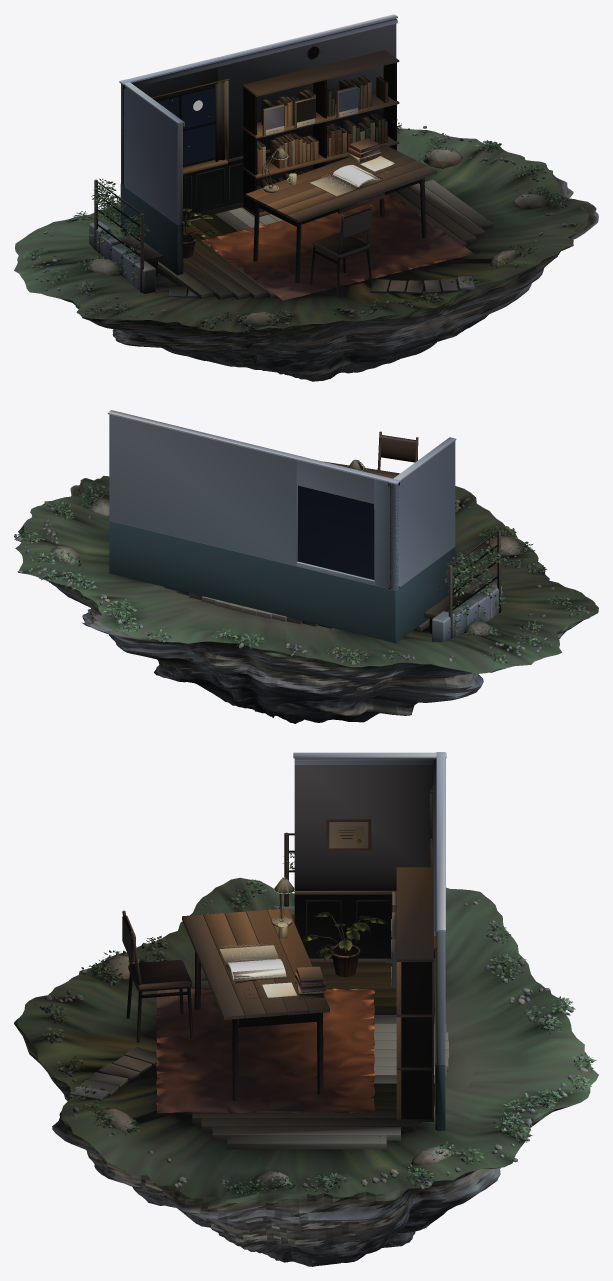
The model's file is flight-writing-fa48f36b.glb.
3 views of the same model, one above another, from view 1: azimuth 30°, elevation 25°; view 2: azimuth 150°, elevation 25°; view 3: azimuth 270°, elevation 25° (orthographic). The views are drawn at different scales.
Parts seen in each view (by area): view 1: Writing island · flight.001; view 2: Writing island · flight.001; view 3: Writing island · flight.001.
Part boxes in pixels (box(x1,y1,x2,y2)): Writing island · flight.001: box(14, 14, 598, 381); Writing island · flight.001: box(14, 410, 598, 723); Writing island · flight.001: box(14, 752, 598, 1266).
Bounding box in the file's own units: 11.7 × 6.39 × 8.63.
